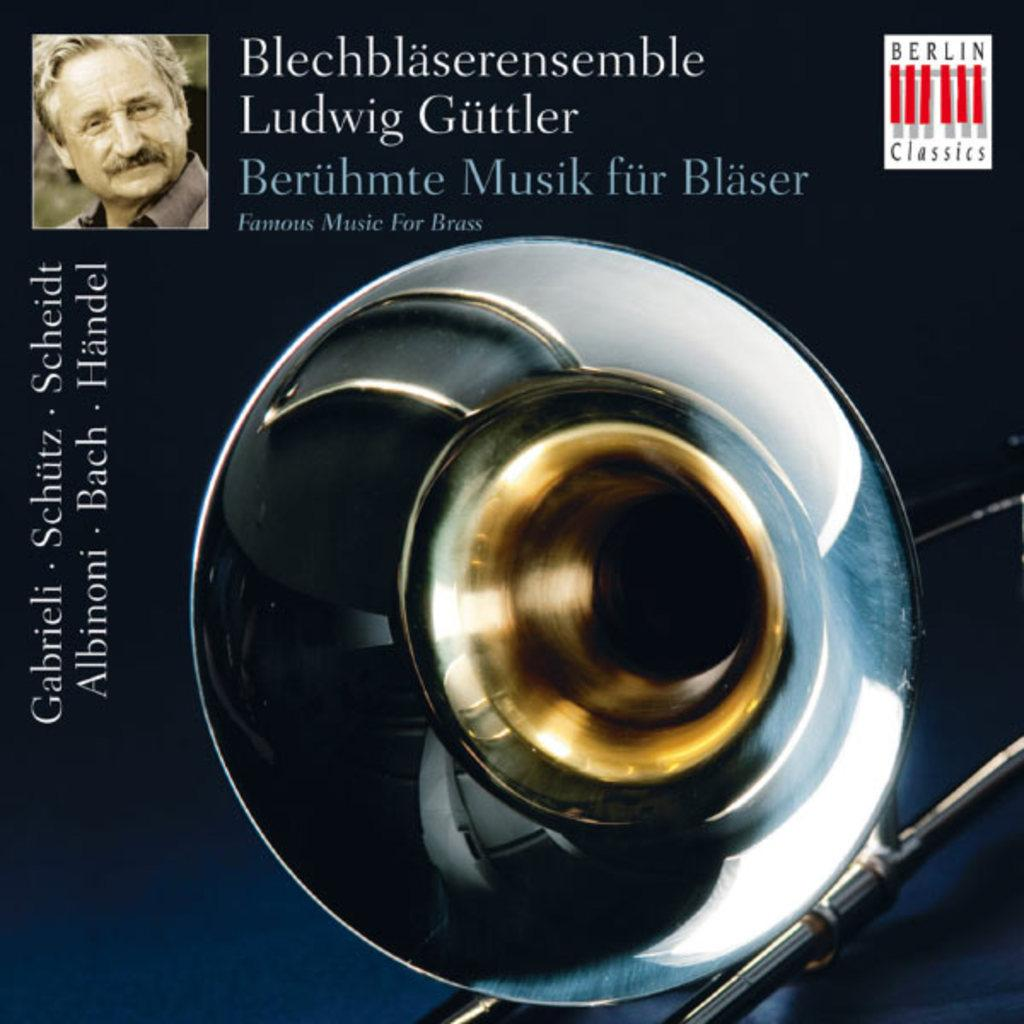Sem Máscara: (48, 49, 184, 196)
